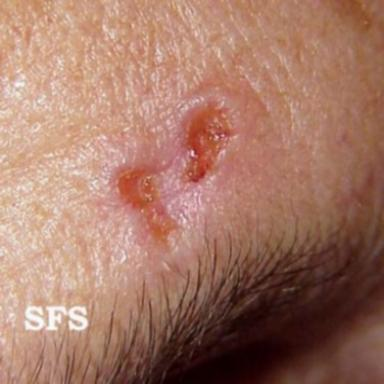basal-cell-carcinoma: (110, 89, 241, 247)
